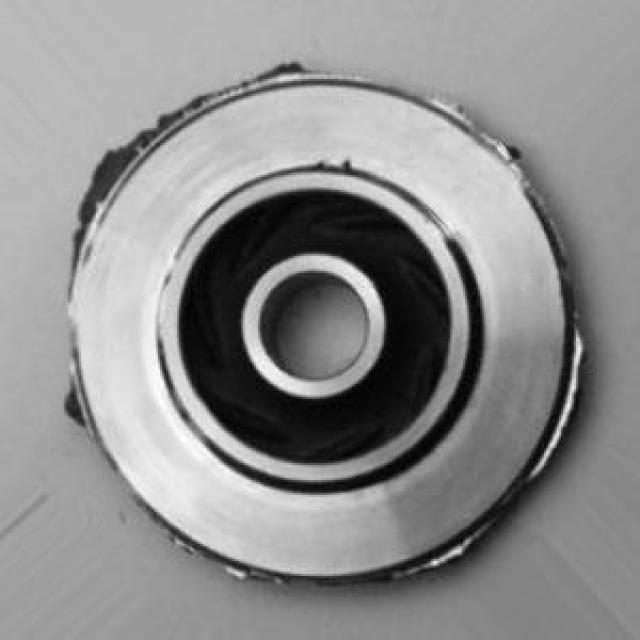Defect: (77, 122, 149, 220)
